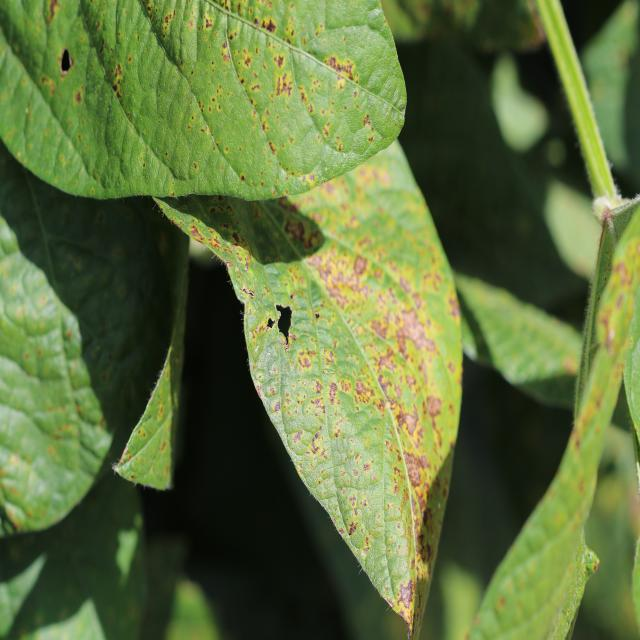Bacterial_Blight: (284, 268, 398, 471), (230, 13, 362, 172), (362, 281, 440, 437), (389, 442, 442, 606), (370, 286, 442, 397), (597, 250, 637, 353), (290, 369, 337, 439), (317, 250, 367, 309), (397, 308, 440, 367), (383, 380, 422, 438), (285, 217, 313, 247)
Soybean: (158, 196, 462, 638)
